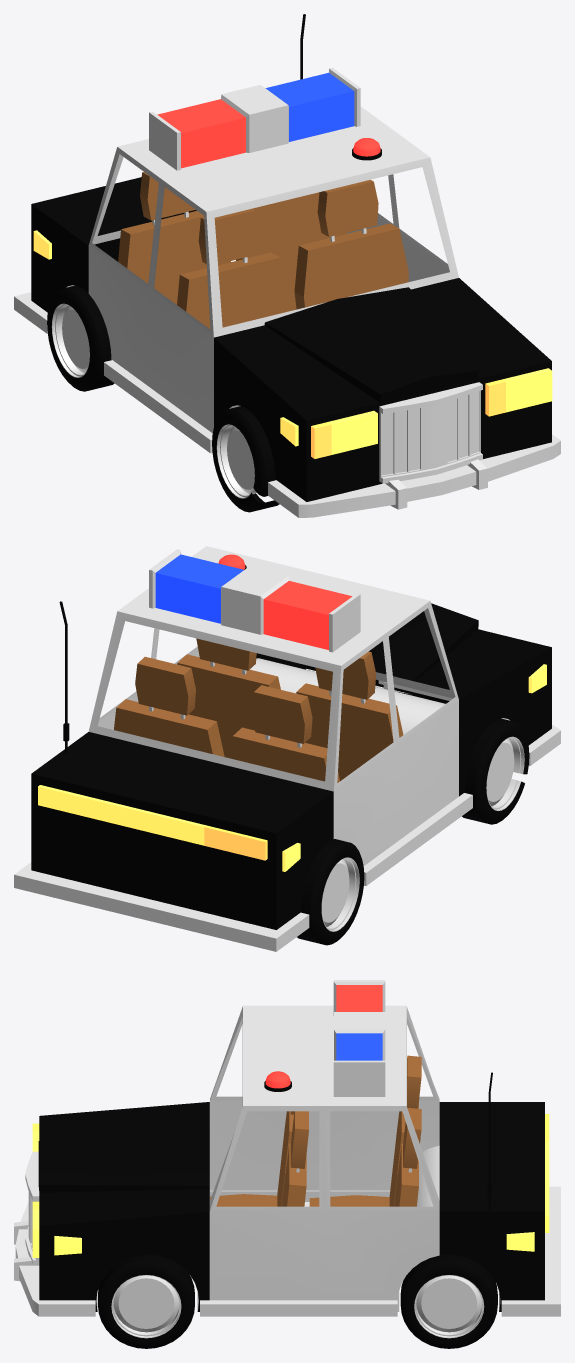
Rendered from car_p.fbx.
3 views of the same model, one above another, from view 1: azimuth 30°, elevation 25°; view 2: azimuth 150°, elevation 25°; view 3: azimuth 270°, elevation 25° (orthographic). The views are drawn at different scales.
Parts seen in each view (by area): view 1: Cube.033; view 2: Cube.033; view 3: Cube.033.
Boxes of the visible parts, bbox=[...] form: Cube.033: bbox=[14, 14, 560, 517]; Cube.033: bbox=[14, 546, 560, 951]; Cube.033: bbox=[14, 980, 560, 1348].
Bounding box in the file's own units: 374 × 708 × 386.
